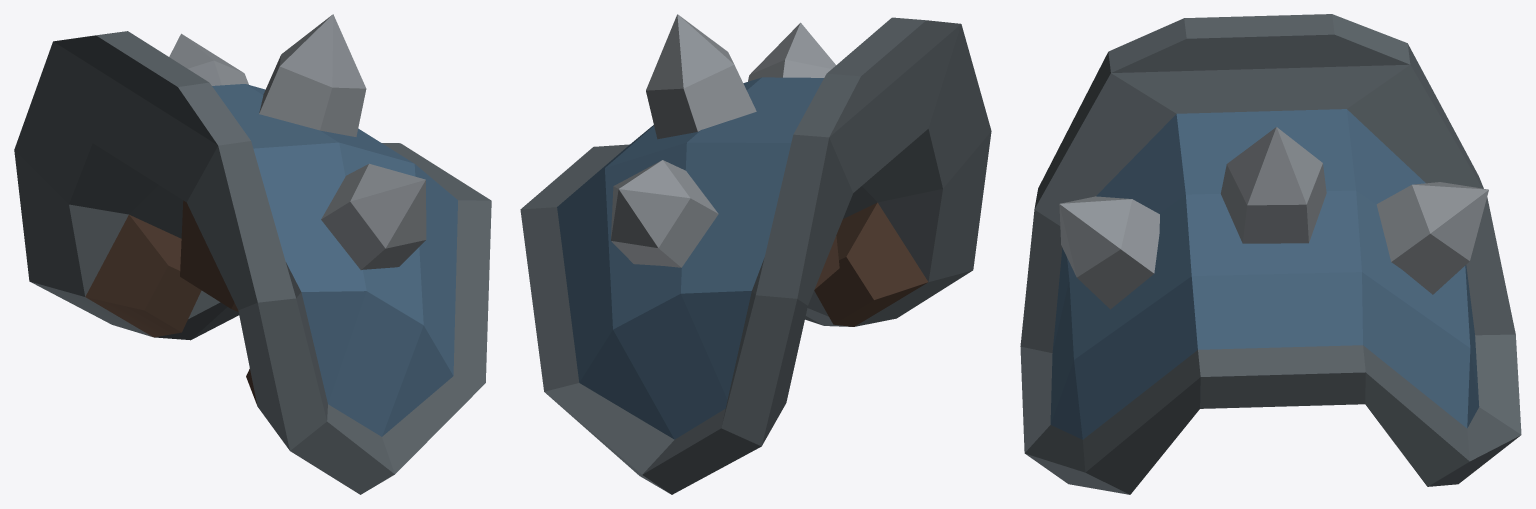
The model's file is Chr_ShoulderAttachLeft_10_Static.fbx.
3 views of the same model, side by side, from view 1: azimuth 30°, elevation 25°; view 2: azimuth 150°, elevation 25°; view 3: azimuth 270°, elevation 25° (orthographic).
Parts seen in each view (by area): view 1: Chr_ShoulderAttachLeft_10_Static; view 2: Chr_ShoulderAttachLeft_10_Static; view 3: Chr_ShoulderAttachLeft_10_Static.
Boxes of the visible parts, left/top/right/bottom form: Chr_ShoulderAttachLeft_10_Static: left=14, top=14, right=491, bottom=494; Chr_ShoulderAttachLeft_10_Static: left=520, top=14, right=991, bottom=494; Chr_ShoulderAttachLeft_10_Static: left=1020, top=14, right=1521, bottom=494.
Bounding box in the file's own units: 0.2588 × 0.2829 × 0.327.
